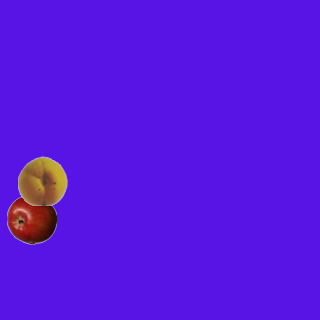Apple Braeburn: (6, 194, 56, 244)
Peach 2: (17, 155, 67, 205)
